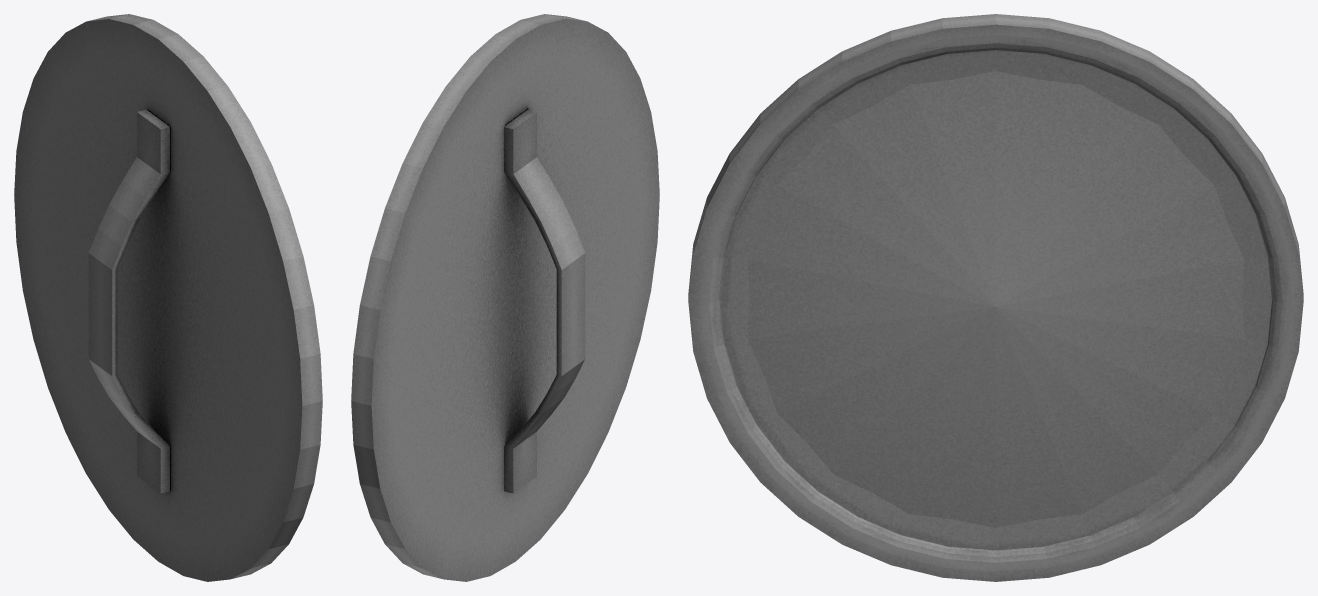
File: Shield01.fbx
The picture shows the model from 3 angles, left to right: view 1: azimuth 30°, elevation 25°; view 2: azimuth 150°, elevation 25°; view 3: azimuth 270°, elevation 25°; orthographic projection. The views are drawn at different scales.
Visible parts, largest first — view 1: Circle.002; view 2: Circle.002; view 3: Circle.002.
Boxes of the visible parts, left/top/right/bottom form: Circle.002: left=14, top=14, right=322, bottom=581; Circle.002: left=351, top=14, right=659, bottom=581; Circle.002: left=688, top=14, right=1303, bottom=581.
Size of the model in its own units: 1.66 by 9.75 by 9.75.
Materials: 1 (1 with a texture image).
